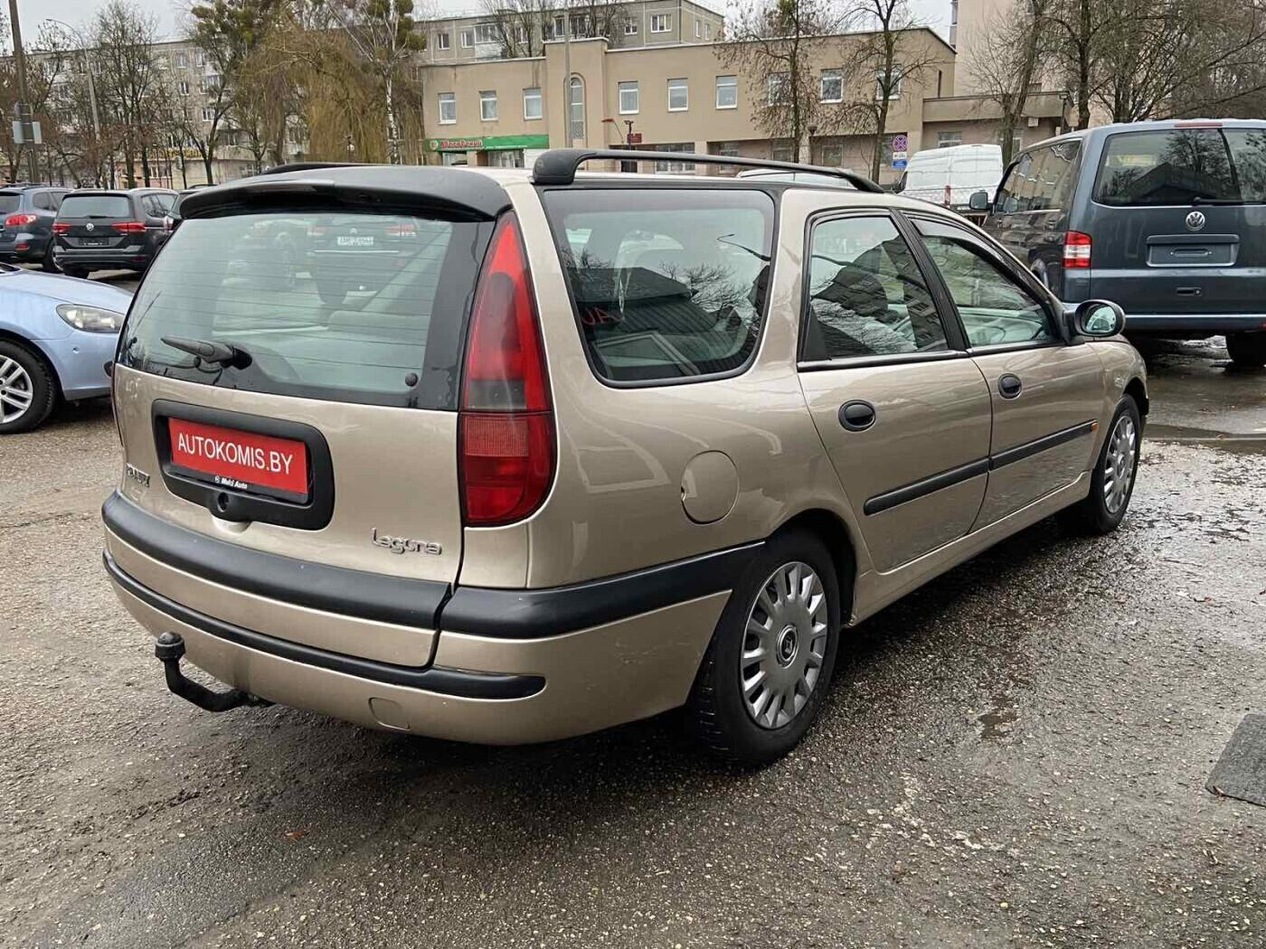Laguna_1998-2001: (94, 169, 1154, 777)
